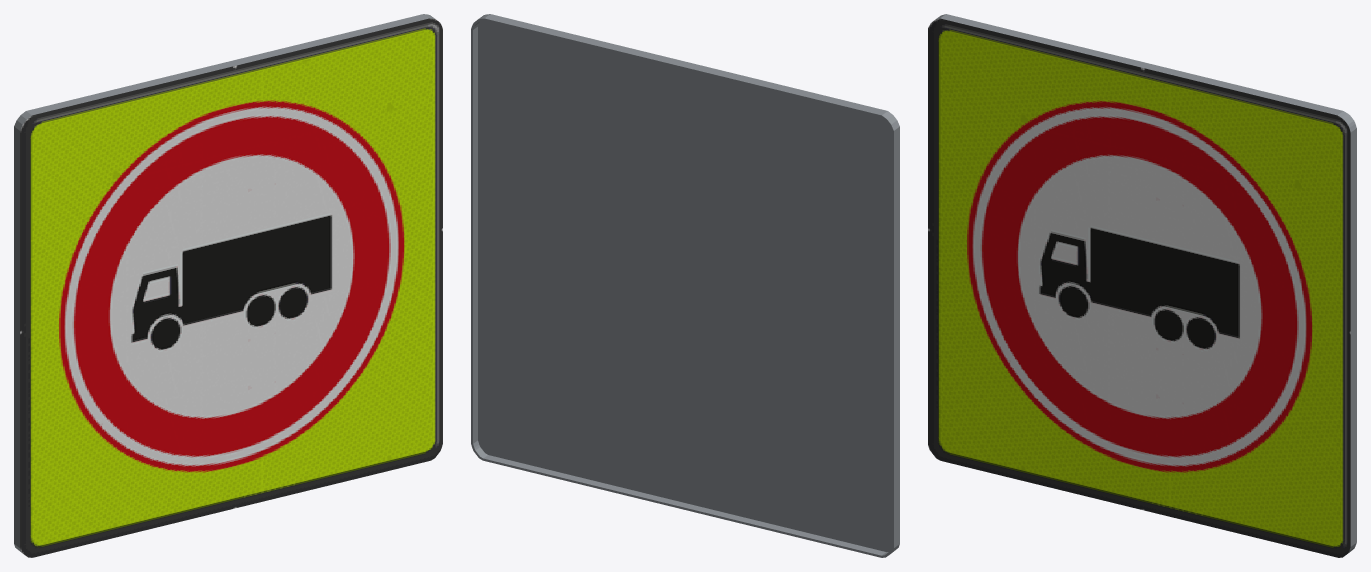
3 views of the same model, side by side, from view 1: azimuth 30°, elevation 25°; view 2: azimuth 150°, elevation 25°; view 3: azimuth 330°, elevation 25° (orthographic).
Visible parts, largest first — view 1: cat_a61aed7eceb47360; view 2: cat_a61aed7eceb47360; view 3: cat_a61aed7eceb47360.
Boxes of the visible parts, x1,y1,x2,y2 form: cat_a61aed7eceb47360: (14,14,442,557); cat_a61aed7eceb47360: (471,14,899,557); cat_a61aed7eceb47360: (928,14,1356,557).
Size of the model in its own units: 0.6 by 0.015 by 0.6.
Materials: 2 (1 with a texture image).
